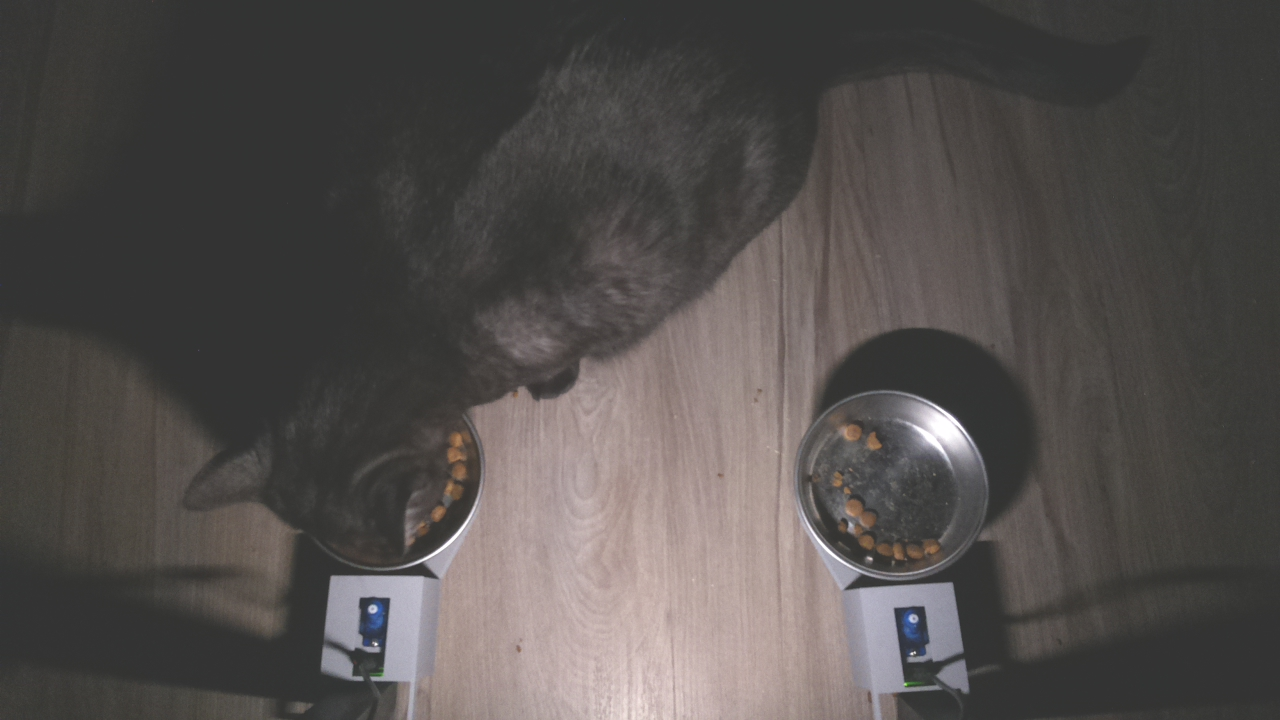open_bowl: (784, 378, 998, 584)
saki_eating: (172, 326, 497, 573)
